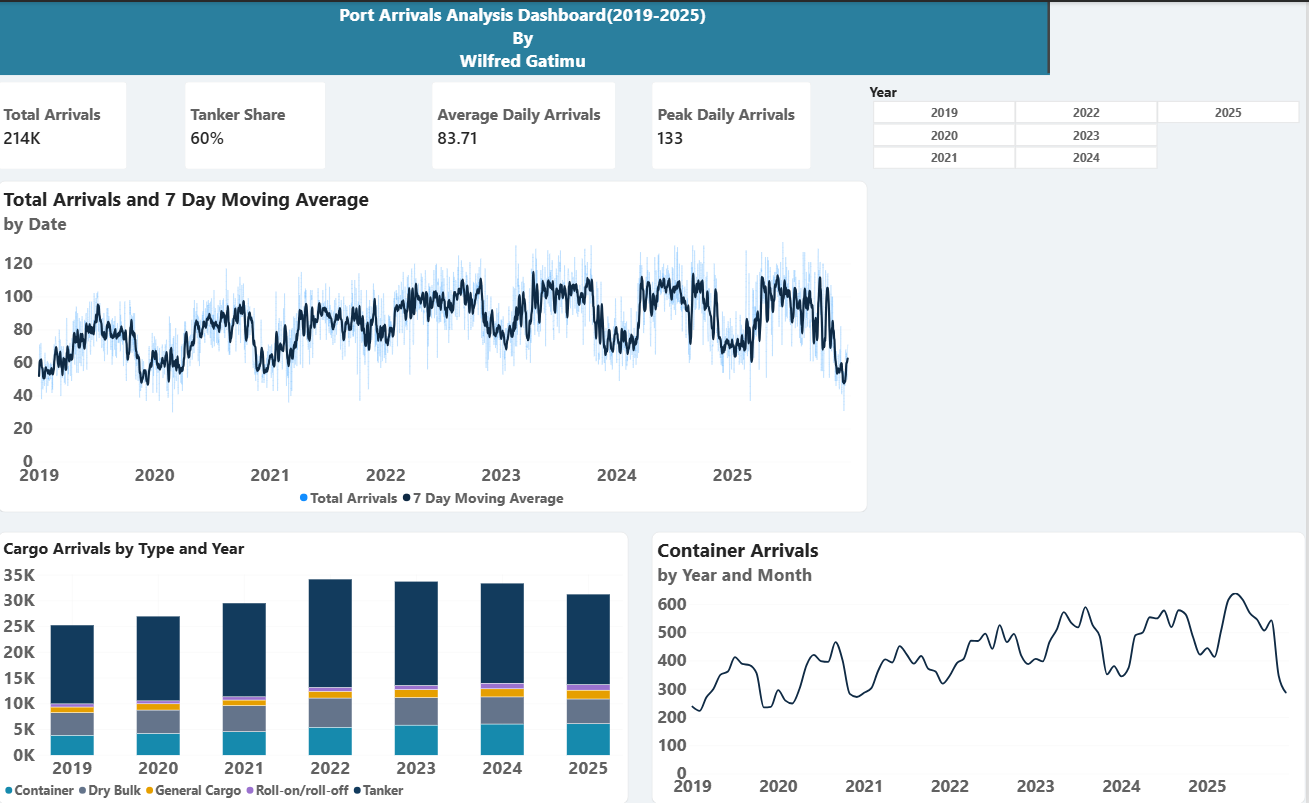

The page's visual inventory and layout, read from the dashboard file:
{"tool":"powerbi","page":{"name":"Overview","canvas":[4206,2580],"ordinal":0},"visuals":[{"type":"cardVisual","fields":{"Data":["Dim_Date.Total Arrivals"]},"box":[0,257.4,414.8,280.7],"z":0},{"type":"cardVisual","fields":{"Data":["Dim_Date.Tanker Share"]},"box":[601.6,257.4,452.5,280.7],"z":1000},{"type":"cardVisual","fields":{"Data":["Dim_Date.Average Daily Arrivals"]},"box":[1396.2,257.4,590.7,280.7],"z":2000},{"type":"cardVisual","fields":{"Data":["Dim_Date.Peak Daily Arrivals"]},"box":[2103.9,257.4,511.1,280.7],"z":3000},{"type":"lineChart","fields":{"Category":["Dim_Date.Date"],"Y":["Dim_Date.Total Arrivals","Dim_Date.7 Day Moving Average"]},"box":[0,575.8,3056.1,1064.8],"z":4000},{"type":"lineChart","fields":{"Category":["Dim_Date.Date.Variation.Date Hierarchy.Year","Dim_Date.Date.Variation.Date Hierarchy.Month"],"Y":["Dim_Date.Container Arrivals"]},"box":[2206.8,1705,1997.7,875],"z":5000},{"type":"lineStackedColumnComboChart","title":"Cargo Arrivals by Type and Year","fields":{"Category":["Dim_Date.Year"],"Y":["Sum(gatimu1 ships_arrivals.Container)","Sum(gatimu1 ships_arrivals.Dry Bulk)","Sum(gatimu1 ships_arrivals.General Cargo)","Sum(gatimu1 ships_arrivals.Roll-on/roll-off)","Sum(gatimu1 ships_arrivals.Tanker)"]},"box":[0,1705,2158.6,875],"z":6000},{"type":"slicer","fields":{"Values":["Dim_Date.Year"]},"box":[2795.5,257.4,1409,279.9],"z":7000},{"type":"textbox","box":[0,0,3384.2,234.8],"z":8000}]}

Visuals, with their boxes in screenshot pixels (x1, y1, x2, y2), scaled from the page's 4206x2580 canvas onto the 1309x803 screenshot:
cardVisual - Dim_Date.Total Arrivals: BBox(0, 80, 129, 167)
cardVisual - Dim_Date.Tanker Share: BBox(187, 80, 328, 167)
cardVisual - Dim_Date.Average Daily Arrivals: BBox(435, 80, 618, 167)
cardVisual - Dim_Date.Peak Daily Arrivals: BBox(655, 80, 814, 167)
lineChart - Dim_Date.Date x Dim_Date.Total Arrivals: BBox(0, 179, 951, 511)
lineChart - Dim_Date.Date.Variation.Date Hierarchy.Year x Dim_Date.Date.Variation.Date Hierarchy.Month: BBox(687, 531, 1308, 802)
"Cargo Arrivals by Type and Year" lineStackedColumnComboChart: BBox(0, 531, 672, 802)
slicer - Dim_Date.Year: BBox(870, 80, 1308, 167)
textbox: BBox(0, 0, 1053, 73)
